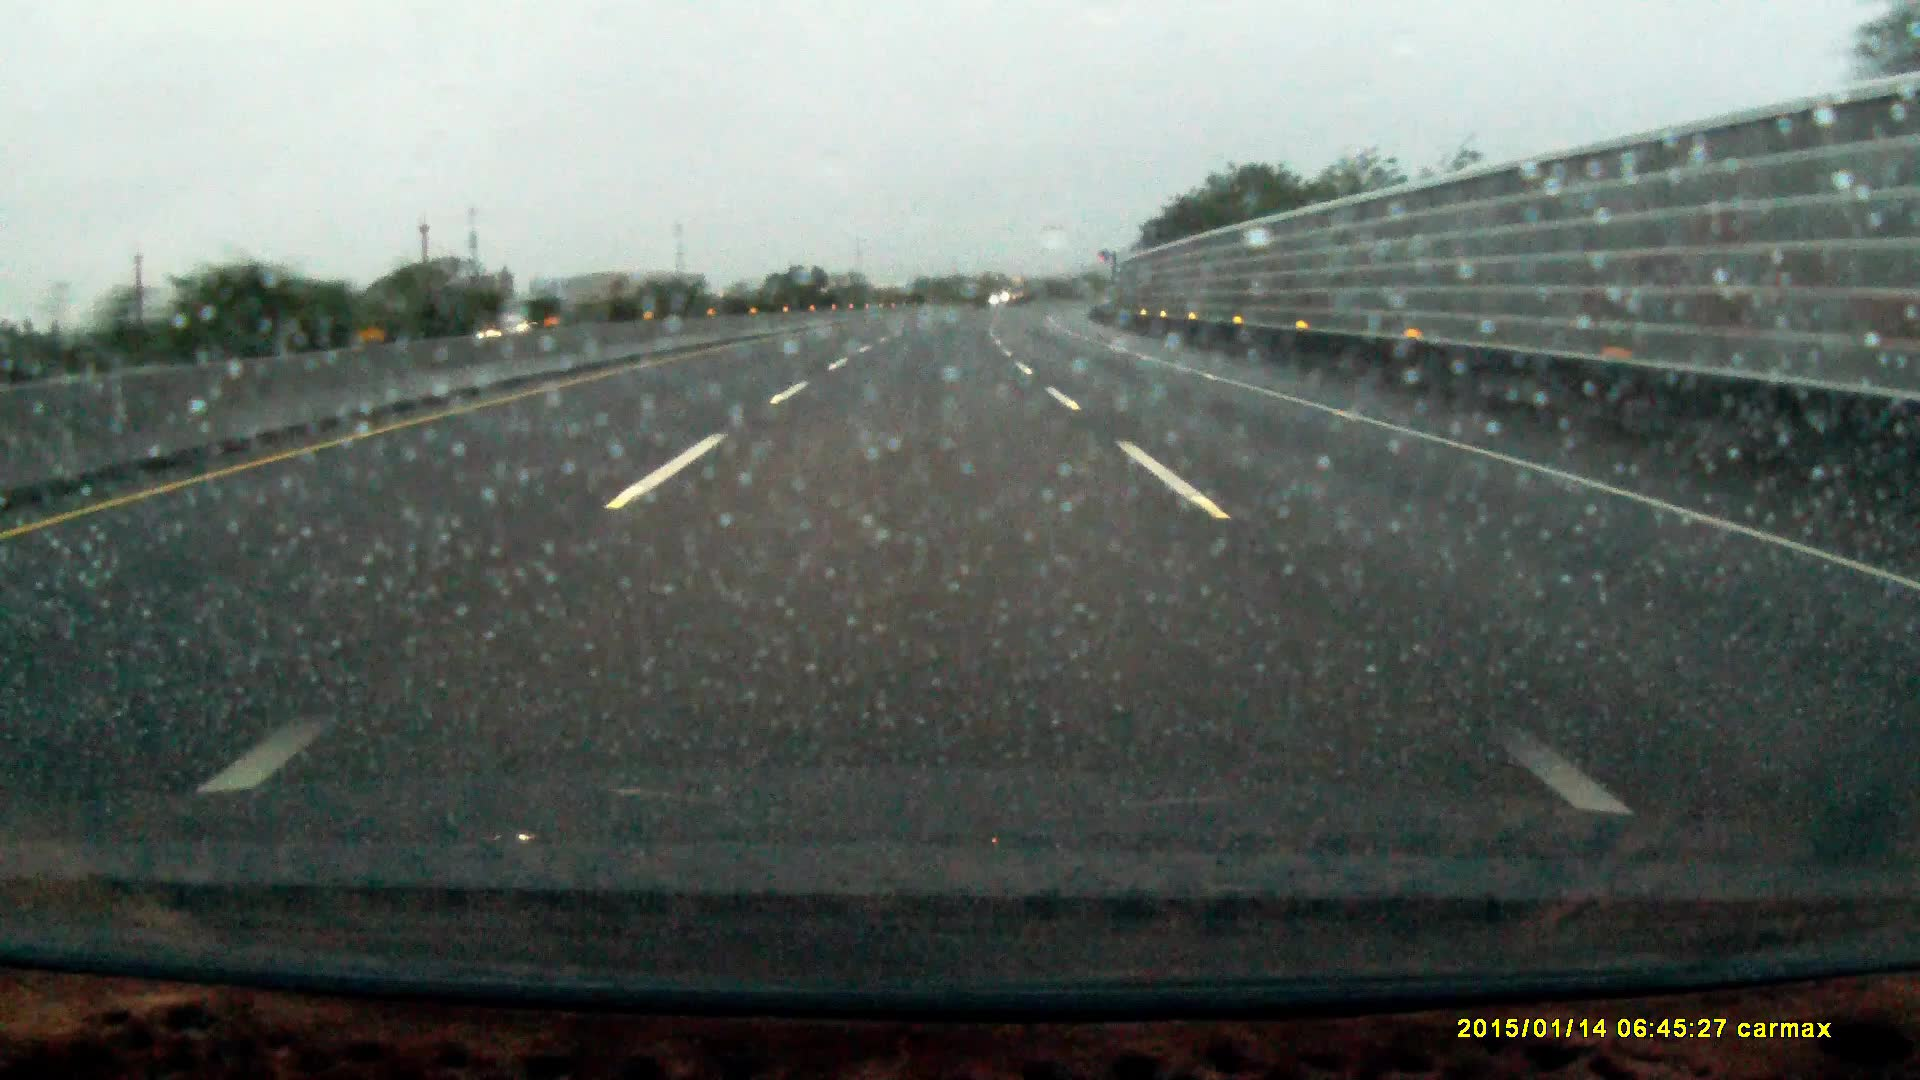vehicle: (455, 309, 535, 338)
